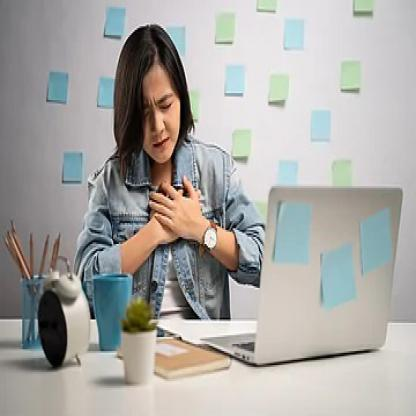pain: (134, 88, 178, 123)
